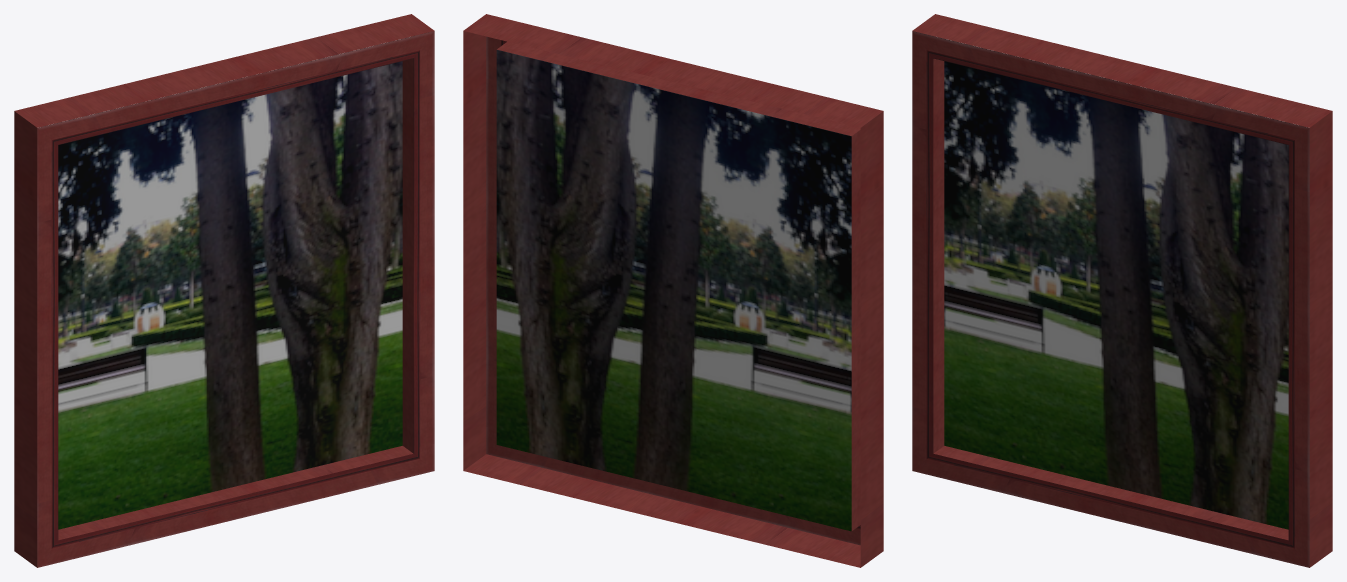
File: Paint05.fbx
3 renders of one model, left to right at view 1: azimuth 30°, elevation 25°; view 2: azimuth 150°, elevation 25°; view 3: azimuth 330°, elevation 25°, orthographic.
Visible parts, largest first — view 1: Mesh; view 2: Mesh; view 3: Mesh.
Part boxes in pixels (<box>): Mesh: <box>14,14,434,567</box>; Mesh: <box>463,14,883,567</box>; Mesh: <box>912,14,1332,567</box>.
Bounding box in the file's own units: 94.5 × 100 × 9.5.
